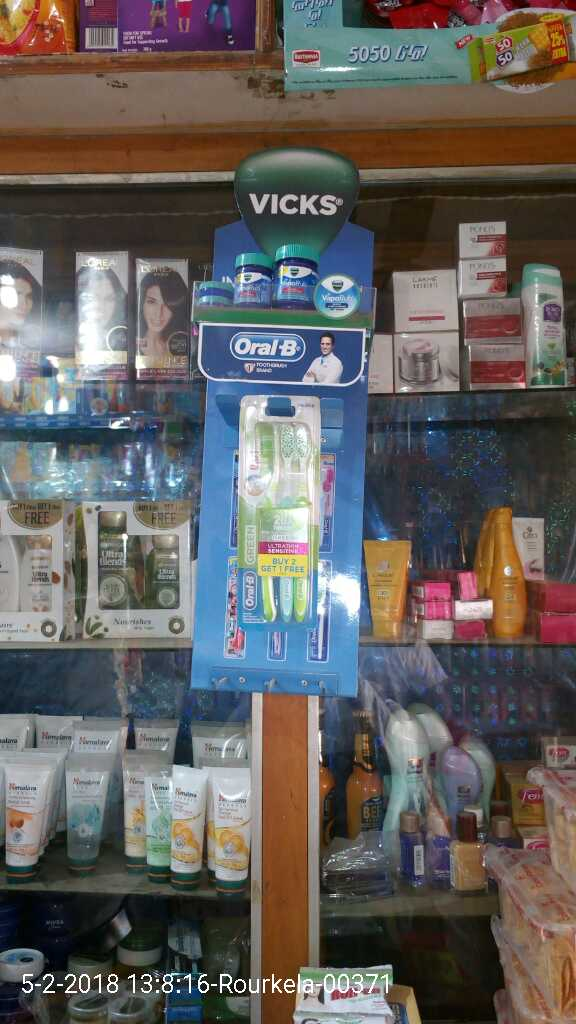oralb: (238, 395, 318, 628)
pharmacy: (271, 241, 325, 312), (231, 252, 278, 312)
